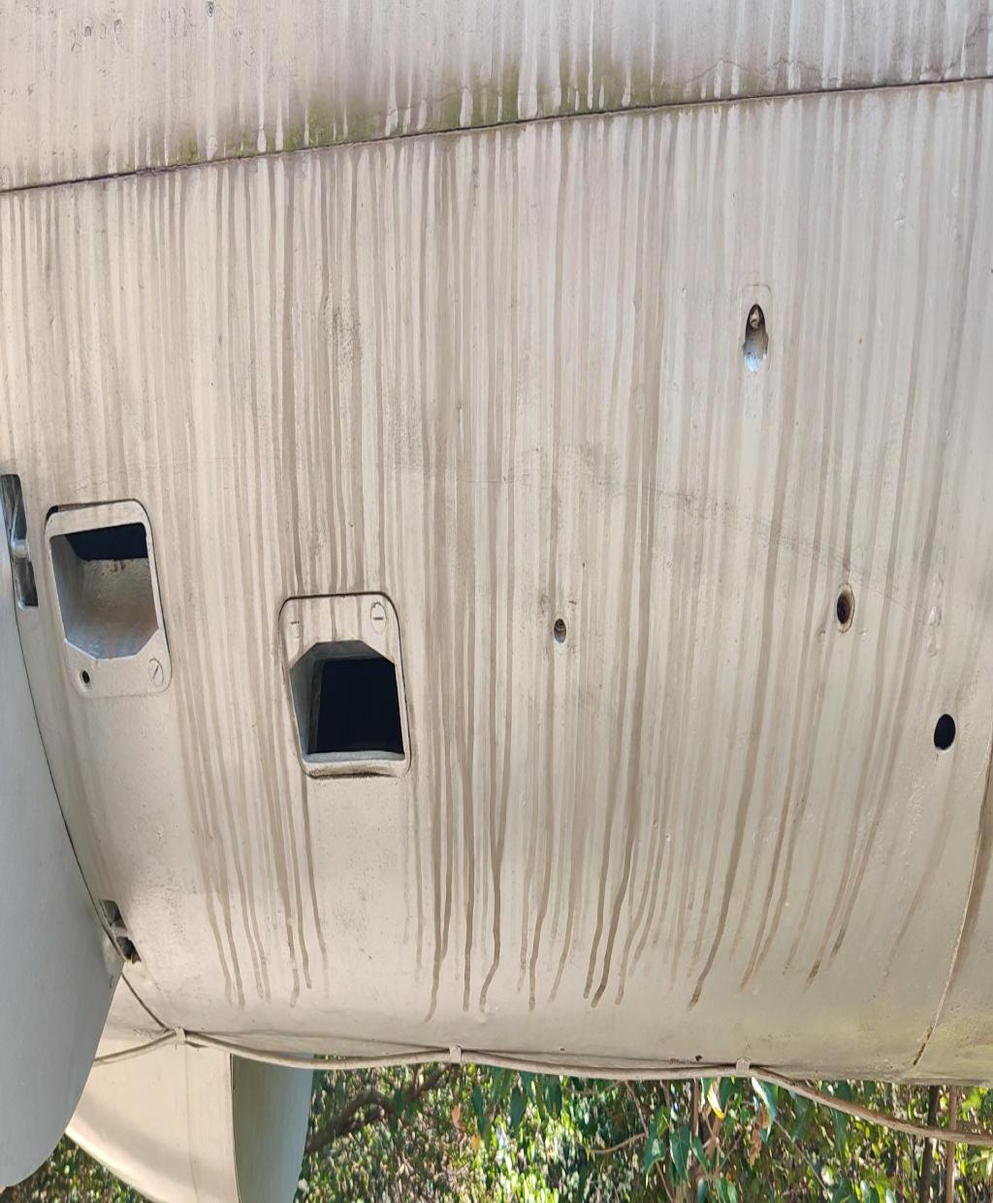dent: (80, 891, 127, 1003)
